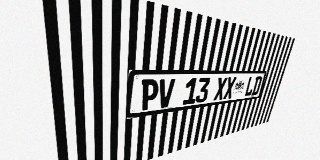1: (182, 78, 199, 105)
3: (195, 78, 211, 103)
D: (251, 76, 263, 95)
L: (244, 76, 256, 96)
P: (140, 79, 159, 111)
V: (157, 79, 175, 108)
X: (213, 77, 228, 101), (223, 77, 237, 99)
